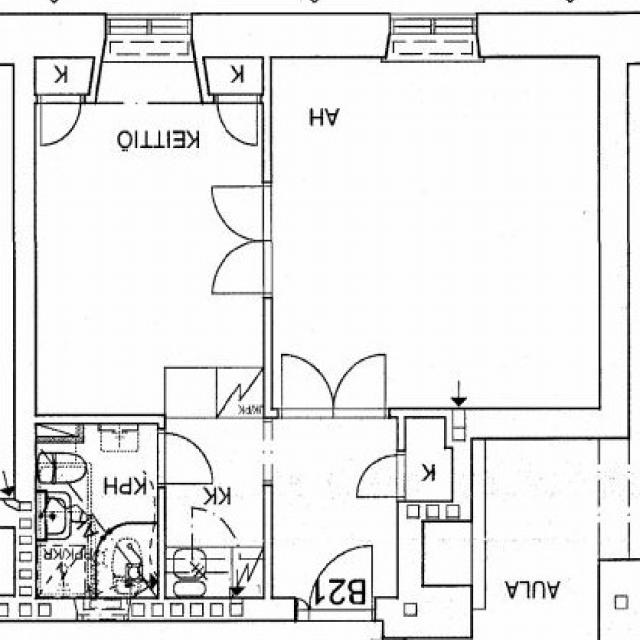door: (311, 542, 372, 622), (334, 352, 386, 418), (282, 352, 334, 418), (215, 240, 272, 293), (215, 187, 272, 240), (158, 434, 212, 485), (40, 94, 80, 146), (218, 93, 257, 145), (359, 456, 407, 498), (297, 594, 311, 622)
